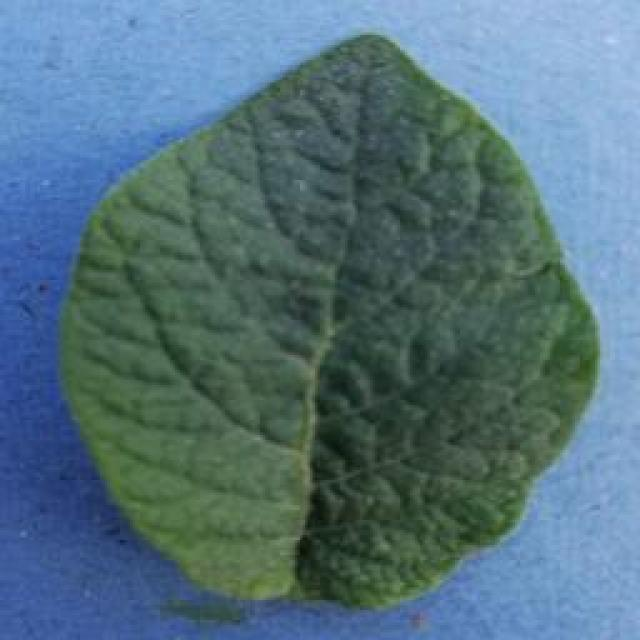Potato_Healthy: (63, 27, 596, 607)
